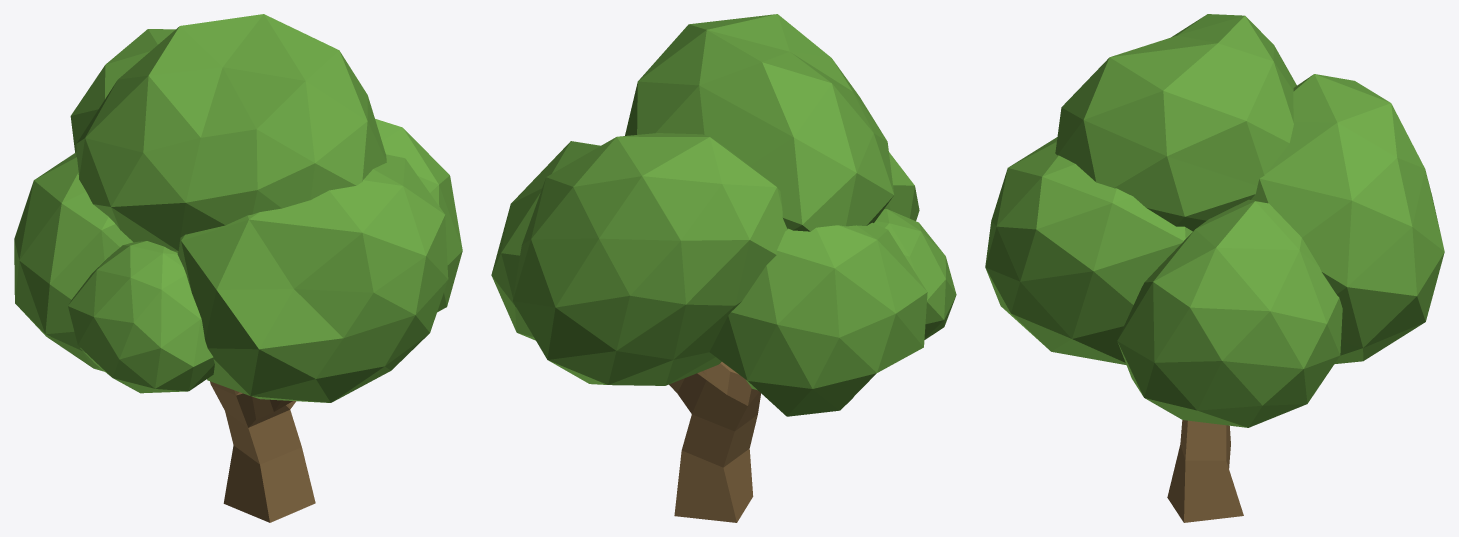
The model's file is forest-oak-c.glb.
3 renders of one model, left to right at view 1: azimuth 30°, elevation 25°; view 2: azimuth 150°, elevation 25°; view 3: azimuth 270°, elevation 25°, orthographic. The views are drawn at different scales.
Visible parts, largest first — view 1: OakTree3; view 2: OakTree3; view 3: OakTree3.
Part boxes in pixels (x1,y1,x2,y2): OakTree3: (14, 14, 462, 522); OakTree3: (491, 14, 956, 522); OakTree3: (985, 14, 1444, 522).
Size of the model in its own units: 13.82 by 15.84 by 14.23.
